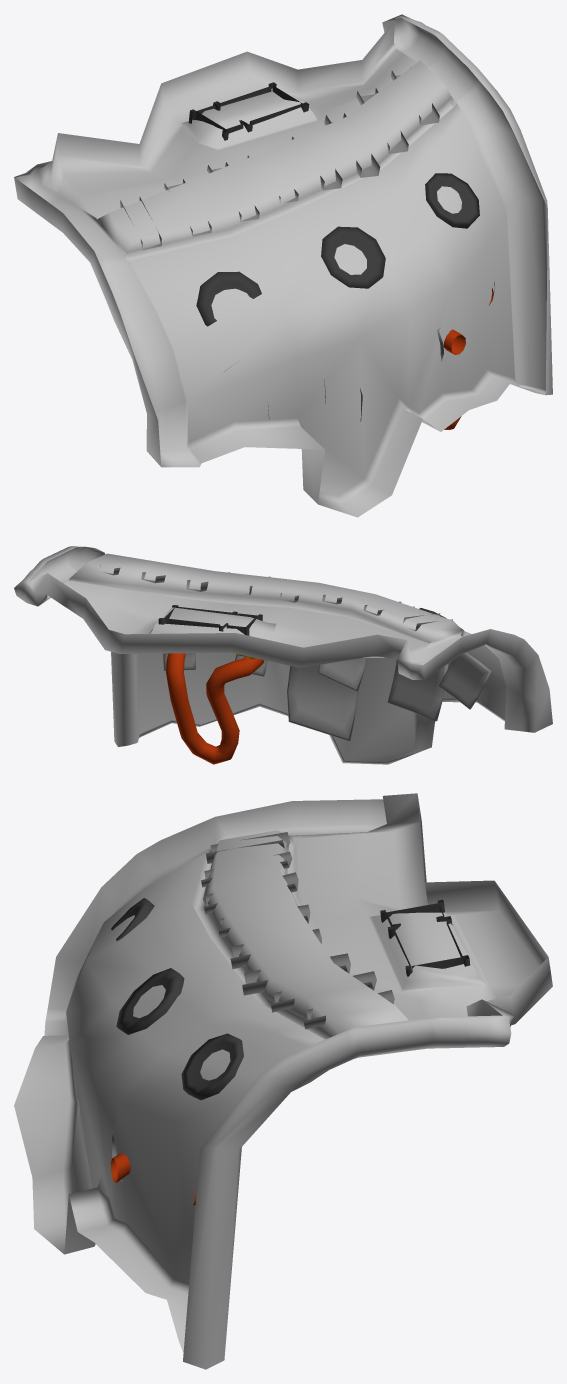
The model's file is Structure_03.fbx.
3 views of the same model, one above another, from view 1: azimuth 30°, elevation 25°; view 2: azimuth 150°, elevation 25°; view 3: azimuth 270°, elevation 25° (orthographic). The views are drawn at different scales.
Visible parts, largest first — view 1: Structure_03; view 2: Structure_03; view 3: Structure_03.
Part boxes in pixels (x1=…): Structure_03: x1=14, y1=14, x2=552, y2=517; Structure_03: x1=14, y1=546, x2=552, y2=764; Structure_03: x1=14, y1=793, x2=552, y2=1369.
Bounding box in the file's own units: 7.79 × 4.91 × 6.65.
